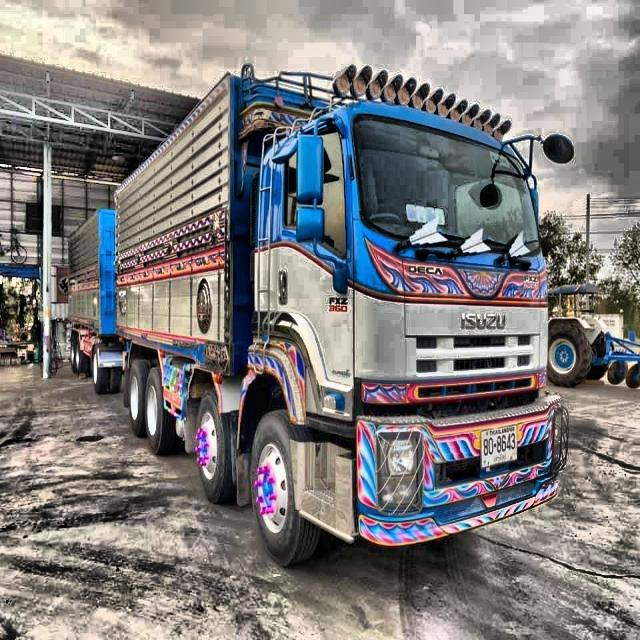trailer: (63, 62, 558, 575)
